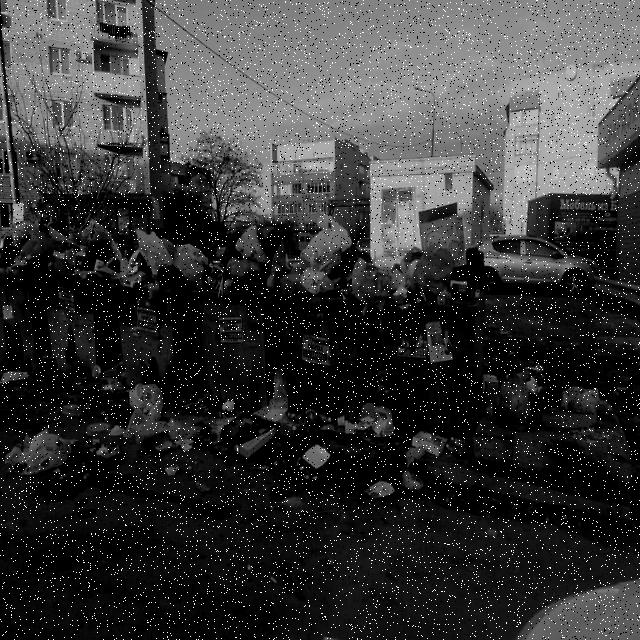Trashcan: (375, 232, 503, 449), (273, 246, 392, 436), (112, 238, 211, 415), (190, 227, 288, 403), (41, 225, 129, 386), (0, 211, 67, 383)
